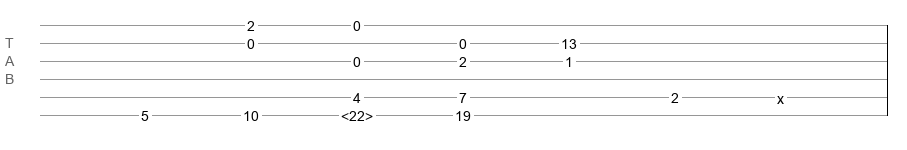0: (247, 36, 255, 46), (353, 18, 361, 28), (353, 54, 361, 64), (459, 36, 467, 46)
1: (565, 54, 573, 64)
10: (243, 108, 259, 118)
13: (561, 36, 577, 46)
19: (455, 108, 471, 118)
2: (247, 18, 255, 28), (459, 54, 467, 64), (671, 90, 679, 100)
4: (353, 90, 361, 100)
5: (141, 108, 149, 118)
7: (459, 90, 467, 100)
harmonic: (341, 108, 373, 118)
x: (777, 91, 784, 99)
